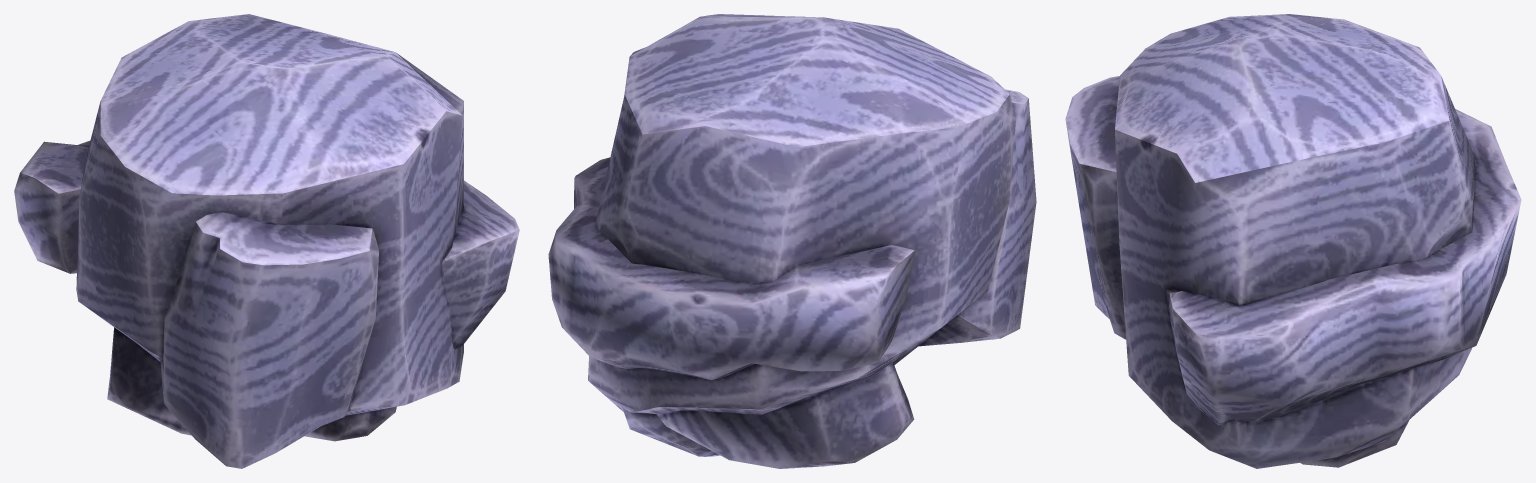
The picture shows the model from 3 angles, left to right: view 1: azimuth 30°, elevation 25°; view 2: azimuth 150°, elevation 25°; view 3: azimuth 270°, elevation 25°; orthographic projection. The views are drawn at different scales.
Visible parts, largest first — view 1: SM_Runite_Ore_Small_01_LOD0; view 2: SM_Runite_Ore_Small_01_LOD0; view 3: SM_Runite_Ore_Small_01_LOD0.
Boxes of the visible parts, left/top/right/bottom form: SM_Runite_Ore_Small_01_LOD0: left=14, top=14, right=519, bottom=468; SM_Runite_Ore_Small_01_LOD0: left=548, top=14, right=1036, bottom=468; SM_Runite_Ore_Small_01_LOD0: left=1065, top=14, right=1521, bottom=468.
Size of the model in its own units: 0.2491 by 0.2454 by 0.261.
1 material, 1 textured.
